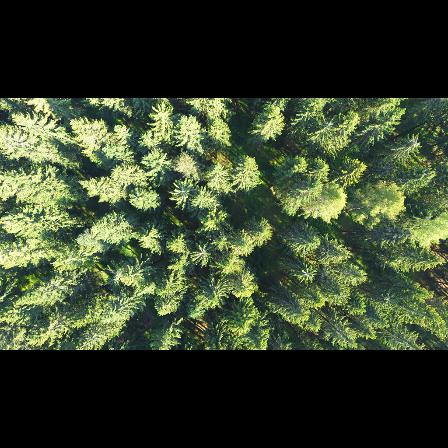Sick: (191, 242, 216, 270), (318, 115, 338, 137), (297, 266, 318, 284)
